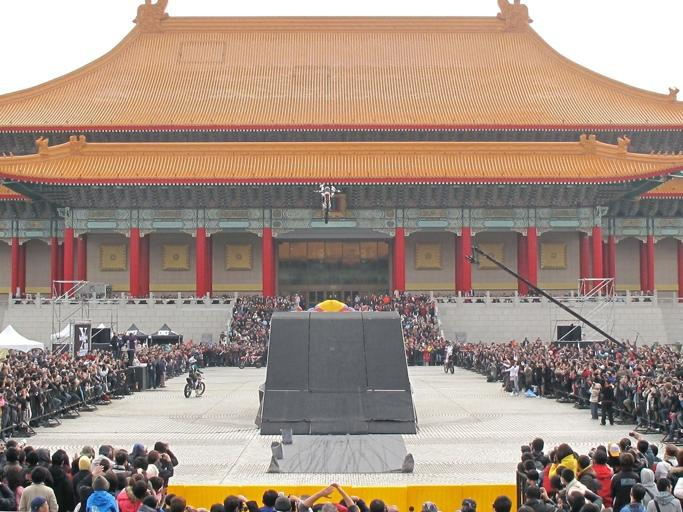non-vehicle: (183, 371, 206, 398), (443, 356, 454, 373)
